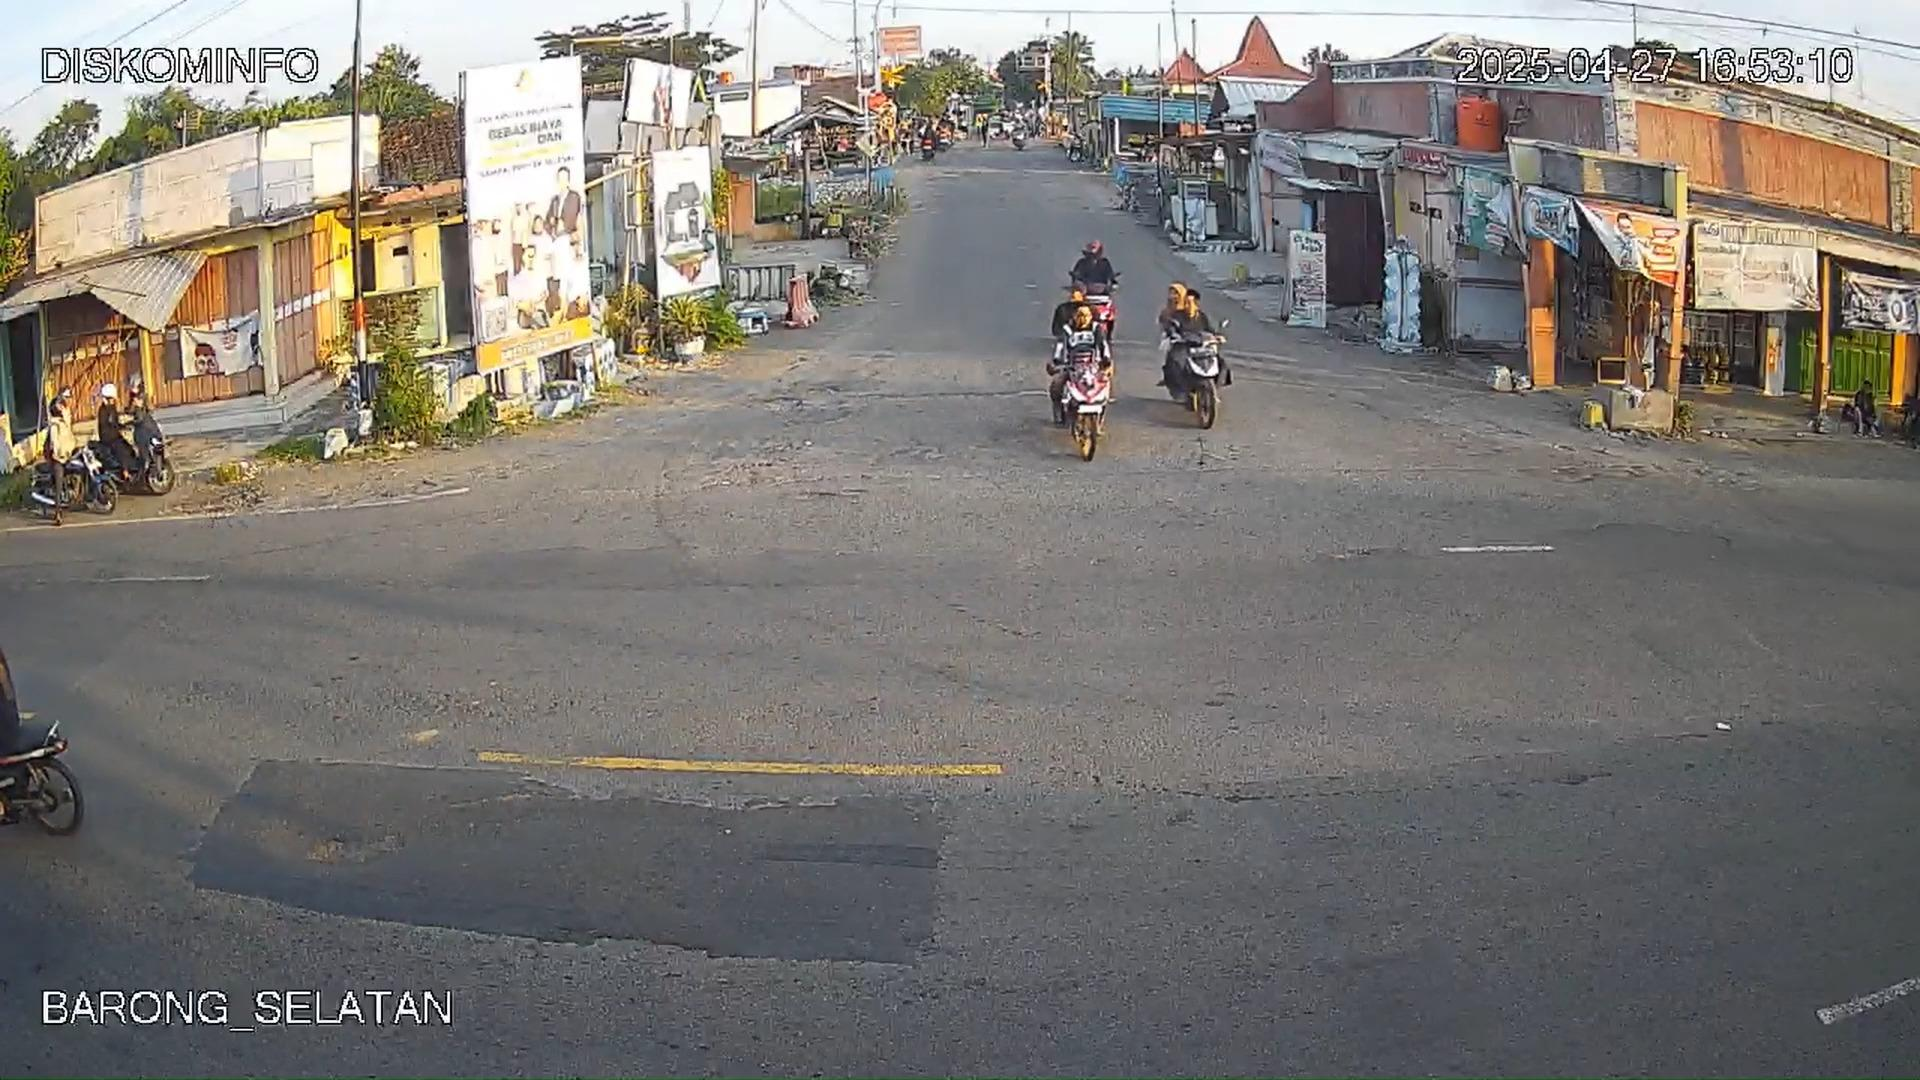Motor: (0, 708, 86, 836), (1047, 326, 1120, 460), (26, 421, 121, 522), (1160, 322, 1230, 430), (109, 411, 177, 497), (1067, 239, 1120, 340)
